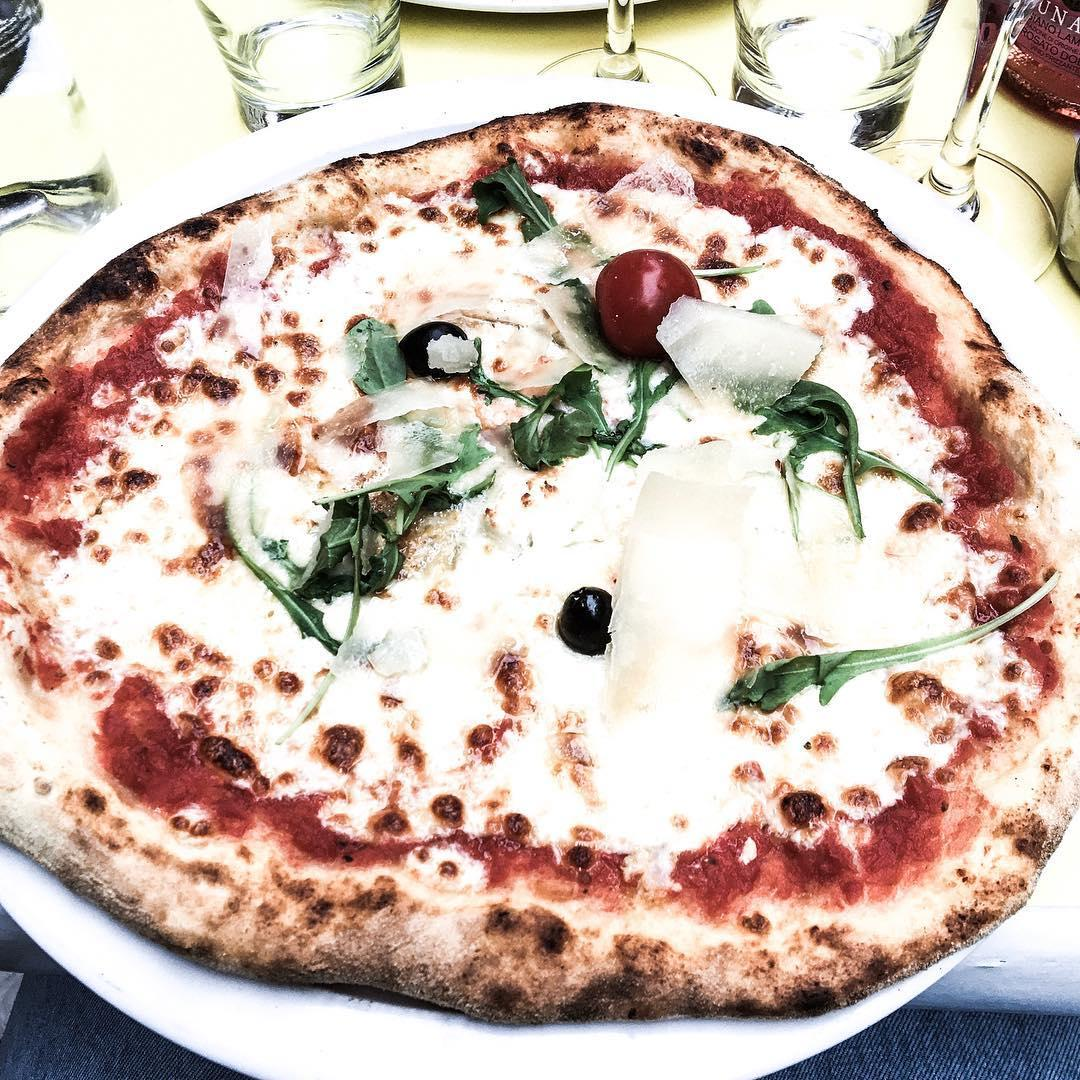Arugula: (273, 462, 469, 650), (748, 376, 895, 546), (731, 633, 989, 716), (516, 366, 643, 475), (465, 156, 561, 248), (336, 301, 411, 410)
Cheese: (295, 663, 715, 800), (603, 478, 715, 796), (110, 424, 209, 638), (738, 548, 959, 632), (666, 308, 819, 396), (235, 298, 317, 455), (348, 238, 539, 304), (743, 251, 837, 356)
Olives: (403, 311, 485, 386), (556, 571, 619, 666)
Pizza: (5, 105, 1075, 1019)
Tomatoes: (593, 245, 699, 368)
